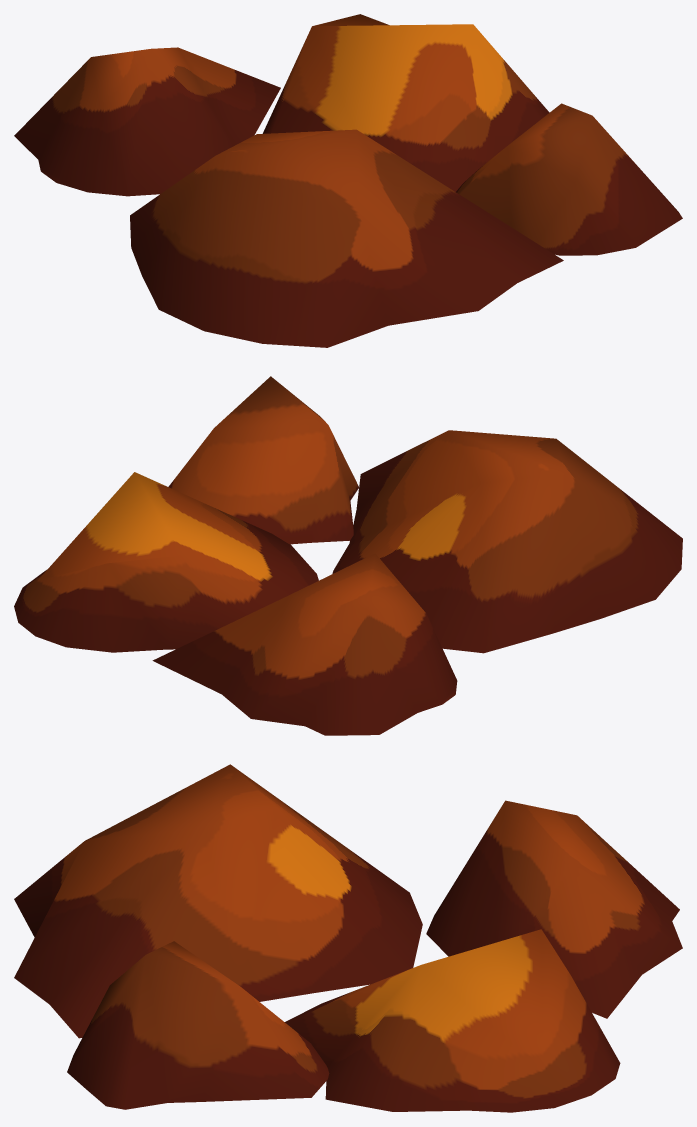
Rendered from Rock 1x 1 1_preview_3DS_simplified.glb.
3 views of the same model, one above another, from view 1: azimuth 30°, elevation 25°; view 2: azimuth 150°, elevation 25°; view 3: azimuth 270°, elevation 25° (orthographic). The views are drawn at different scales.
Parts seen in each view (by area): view 1: Marine Park Empire model; view 2: Marine Park Empire model; view 3: Marine Park Empire model.
Boxes of the visible parts, <box> form: Marine Park Empire model: <box>14,14,682,347</box>; Marine Park Empire model: <box>14,376,682,735</box>; Marine Park Empire model: <box>14,764,682,1112</box>.
Bounding box in the file's own units: 25.59 × 6.28 × 28.17.
1 material, 1 textured.
